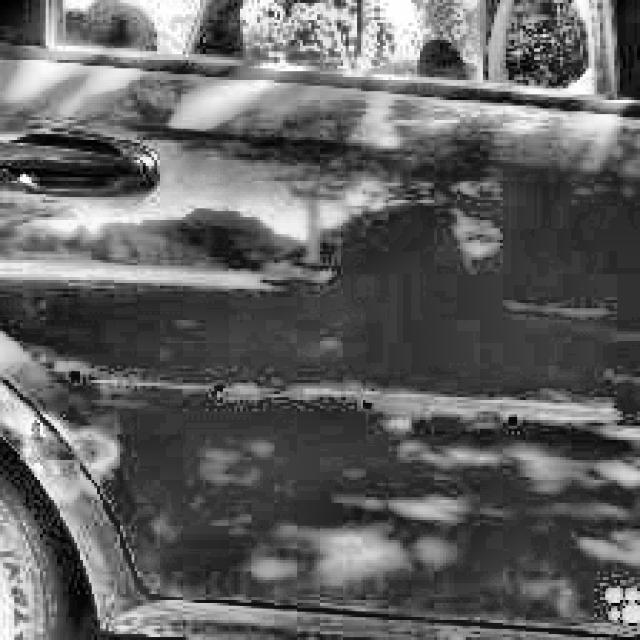door_scratch: (34, 376, 640, 438)
